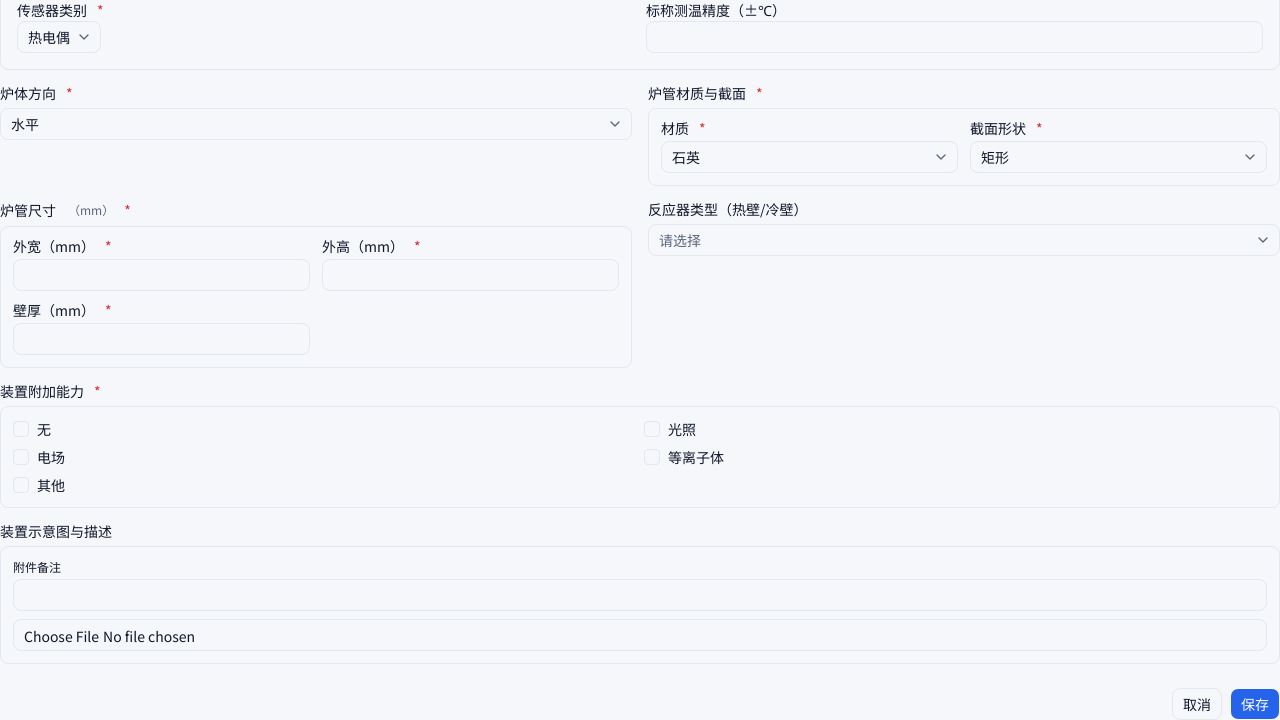
it: EntityForm — generated numeric validation › explains the missing dimensions before submitting a selected tube shape
(page scrolled)
Click the button "保存" at (1255, 704), box x1=1230 y1=688 x2=1279 y2=719
(page scrolled)
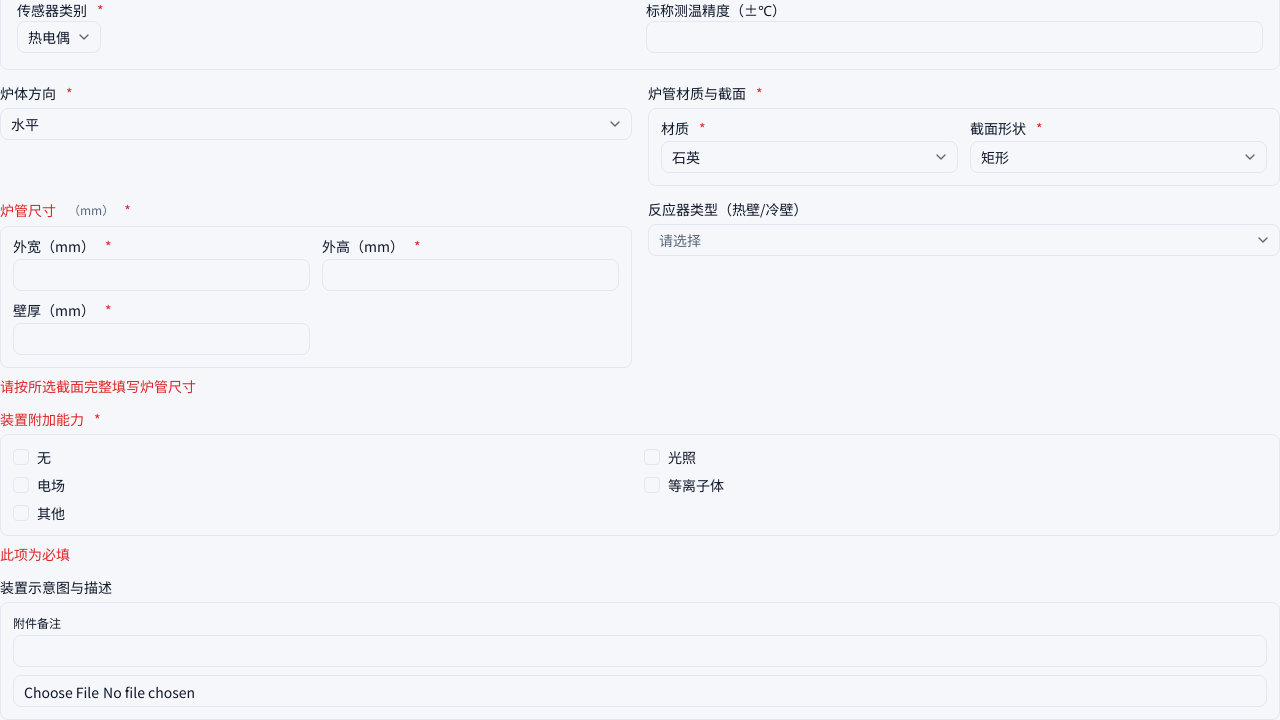
expect the text "请按所选截面完整填写炉管尺寸" is shown: met, box x1=0 y1=376 x2=196 y2=396
